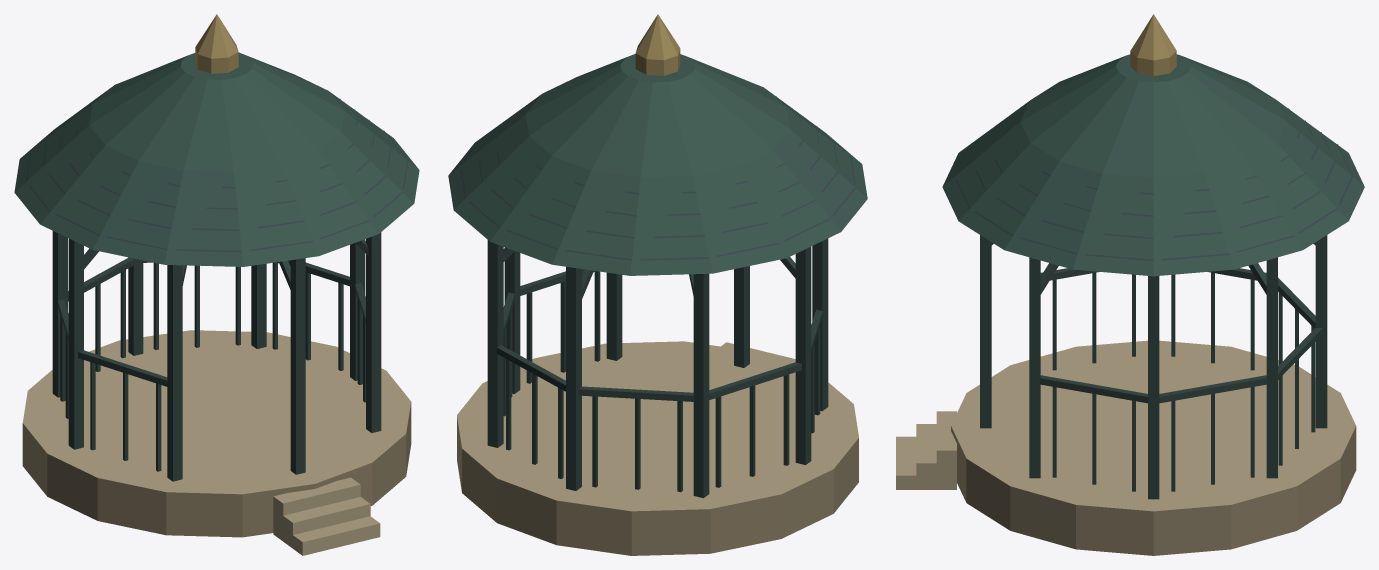
File: 08-iron-bandstand.glb
3 renders of one model, left to right at view 1: azimuth 30°, elevation 25°; view 2: azimuth 150°, elevation 25°; view 3: azimuth 270°, elevation 25°, orthographic. The views are drawn at different scales.
Parts seen in each view (by area): view 1: Victorian park bandstand; view 2: Victorian park bandstand; view 3: Victorian park bandstand.
Part boxes in pixels (<box>): Victorian park bandstand: <box>14,14,419,555</box>; Victorian park bandstand: <box>448,14,867,555</box>; Victorian park bandstand: <box>896,14,1364,555</box>.
Bounding box in the file's own units: 0.73 × 0.87 × 0.81.
